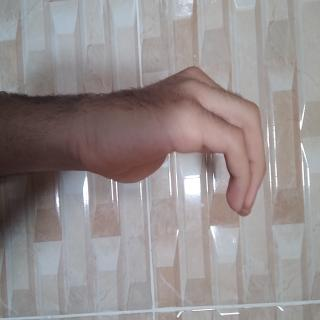HAA: (43, 65, 169, 320)
